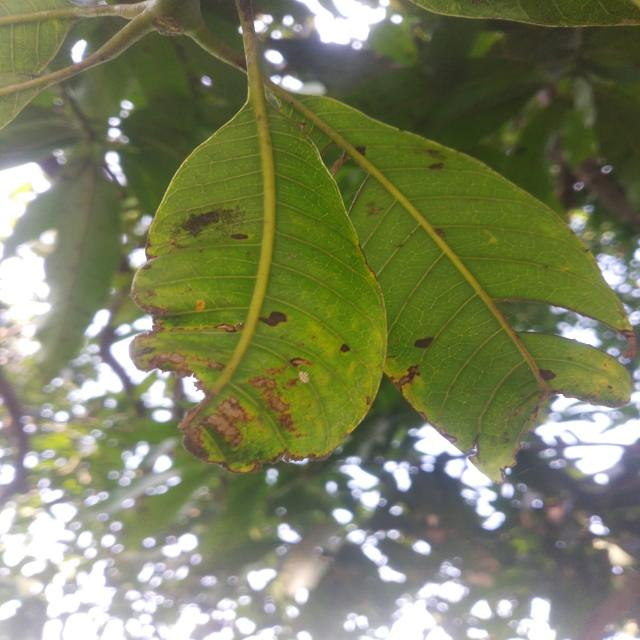Anthracnose: (248, 368, 306, 435), (202, 391, 261, 448), (182, 204, 245, 239), (394, 363, 422, 392), (255, 307, 294, 327), (259, 307, 288, 331), (621, 329, 638, 360), (248, 376, 276, 389), (205, 357, 225, 373), (426, 146, 446, 161), (214, 321, 237, 334), (365, 201, 383, 217), (290, 357, 311, 368), (414, 337, 433, 349), (540, 370, 556, 380), (340, 343, 351, 352), (196, 300, 205, 311), (435, 228, 445, 237), (428, 163, 443, 169), (231, 234, 248, 239), (356, 146, 365, 155), (366, 395, 372, 405)
